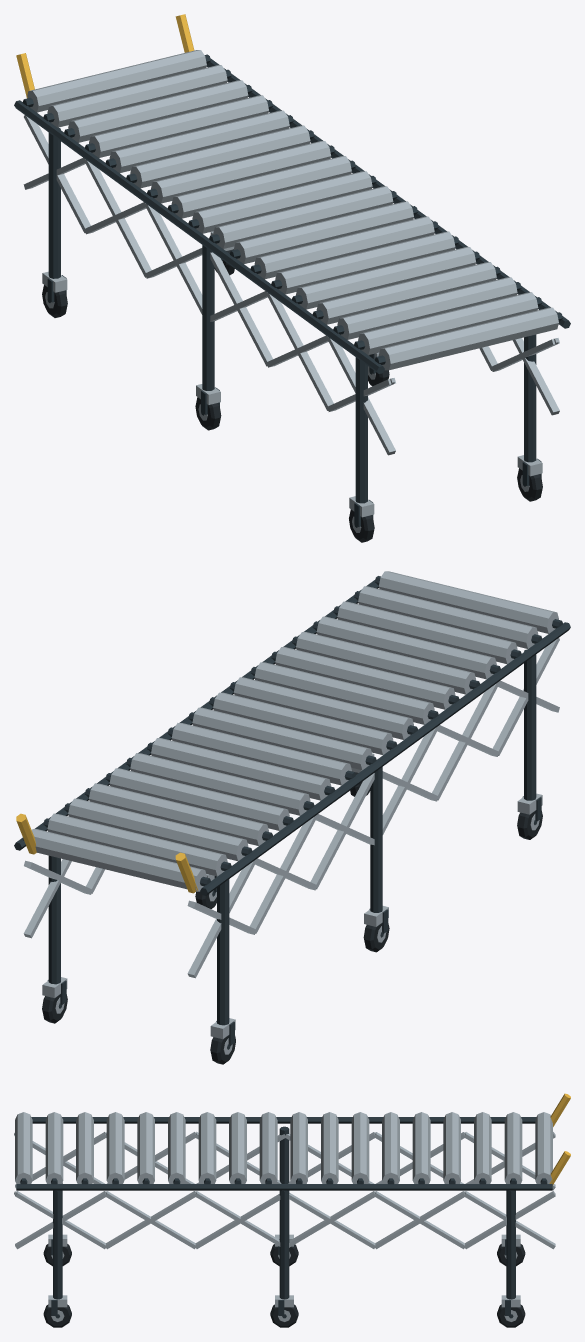
Rendered from b14_expandable_roller_conveyor.glb.
3 renders of one model, top to bottom at view 1: azimuth 30°, elevation 25°; view 2: azimuth 150°, elevation 25°; view 3: azimuth 270°, elevation 25°, orthographic. The views are drawn at different scales.
Parts seen in each view (by area): view 1: b14_expandable_roller_conveyor; view 2: b14_expandable_roller_conveyor; view 3: b14_expandable_roller_conveyor.
Part boxes in pixels (x1,y1,x2,y2): b14_expandable_roller_conveyor: (14,14,570,542); b14_expandable_roller_conveyor: (14,571,570,1064); b14_expandable_roller_conveyor: (14,1093,570,1327).
Size of the model in its own units: 0.876 by 1.01 by 2.95.
